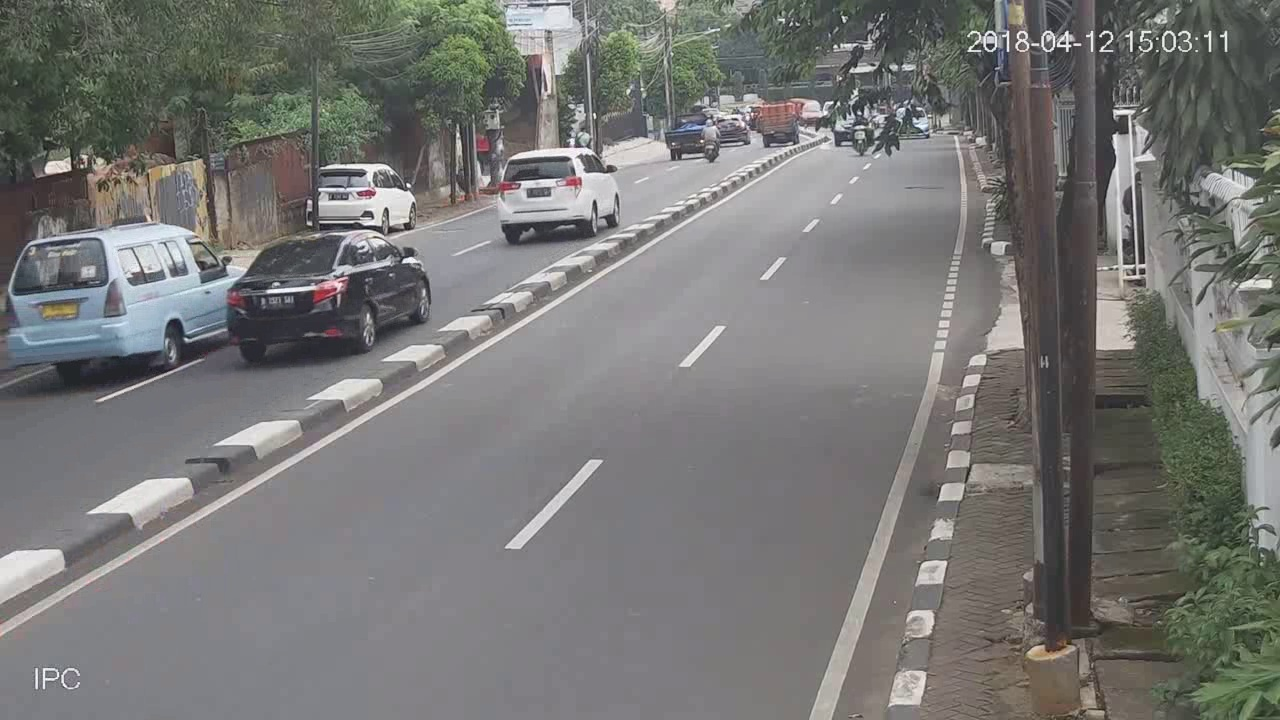car: (6, 219, 227, 375), (221, 233, 433, 363), (495, 145, 624, 245), (307, 162, 422, 236)
